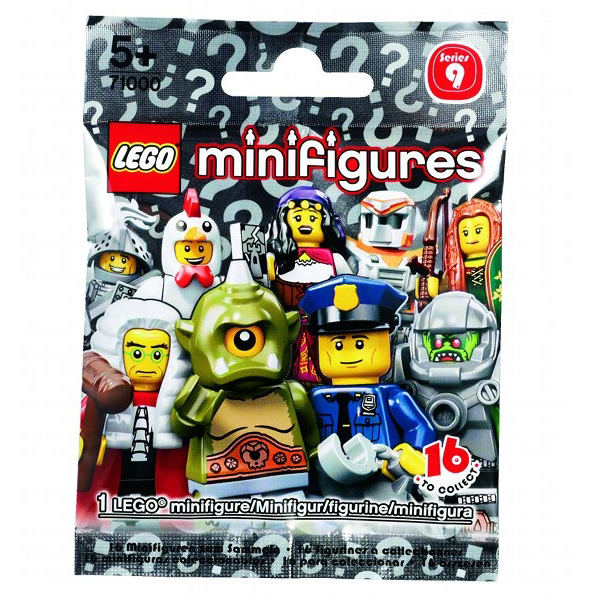LEGO: (97, 113, 185, 199)
